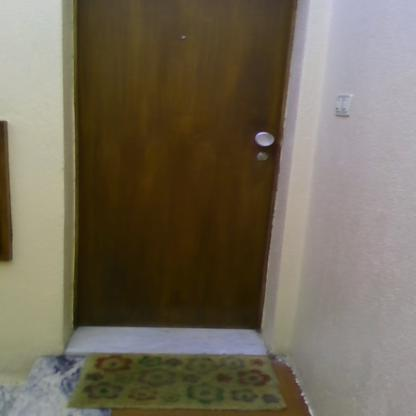door: (77, 0, 280, 335)
knob: (252, 126, 273, 148)
